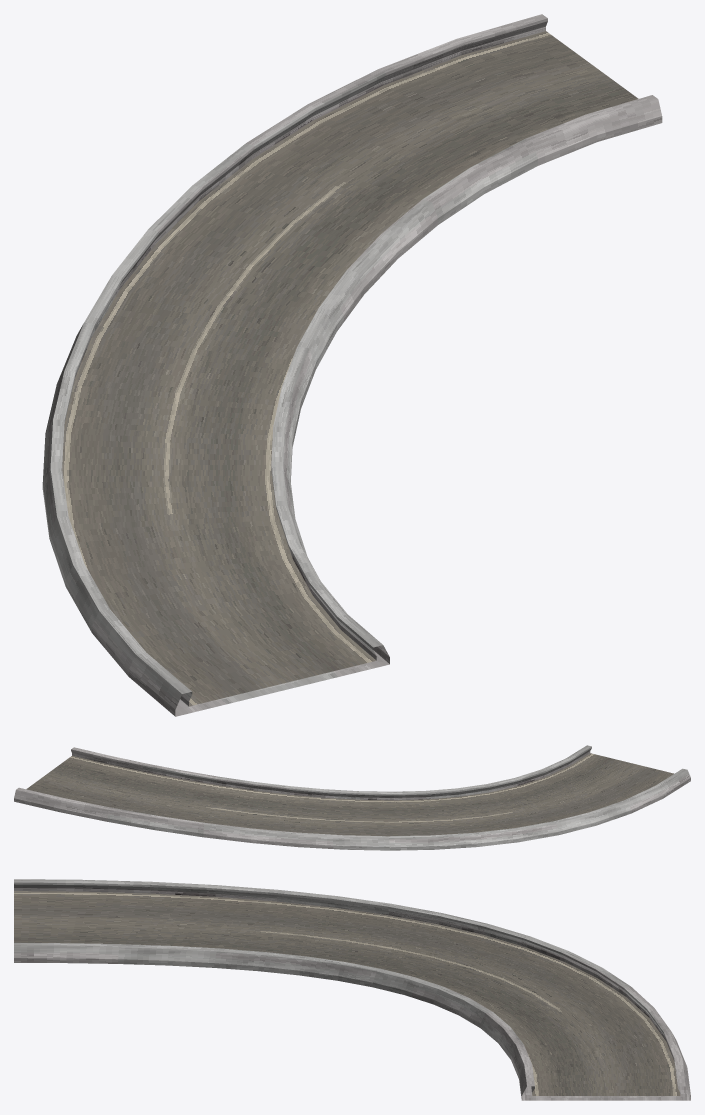
The model's file is turn-right4x4.glb.
The picture shows the model from 3 angles, top to bottom: view 1: azimuth 30°, elevation 25°; view 2: azimuth 150°, elevation 25°; view 3: azimuth 270°, elevation 25°; orthographic projection. The views are drawn at different scales.
Parts seen in each view (by area): view 1: road-Turn-Flat-Flat-Up2-Right-Size4; view 2: road-Turn-Flat-Flat-Up2-Right-Size4; view 3: road-Turn-Flat-Flat-Up2-Right-Size4.
Boxes of the visible parts, x1,y1,x2,y2 form: road-Turn-Flat-Flat-Up2-Right-Size4: [42, 14, 662, 716]; road-Turn-Flat-Flat-Up2-Right-Size4: [14, 745, 690, 850]; road-Turn-Flat-Flat-Up2-Right-Size4: [14, 879, 690, 1100].
Bounding box in the file's own units: 4 × 0.5938 × 4.
Materials: 2 (2 with a texture image).
